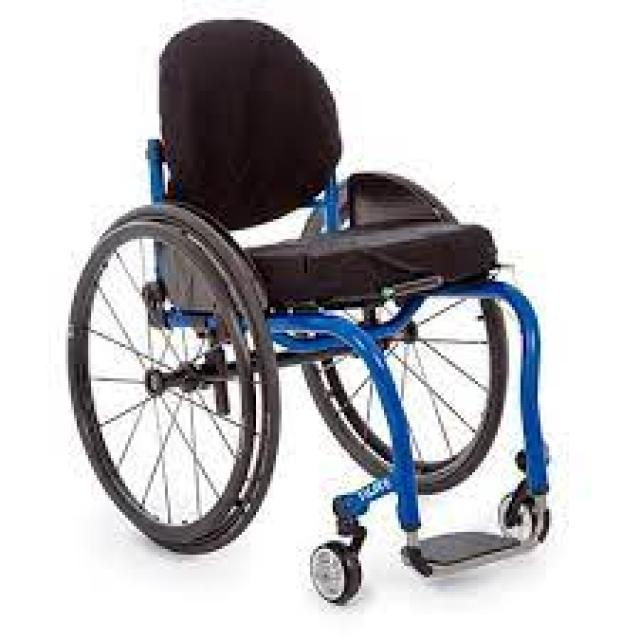wheelchairs: (60, 23, 580, 620)
